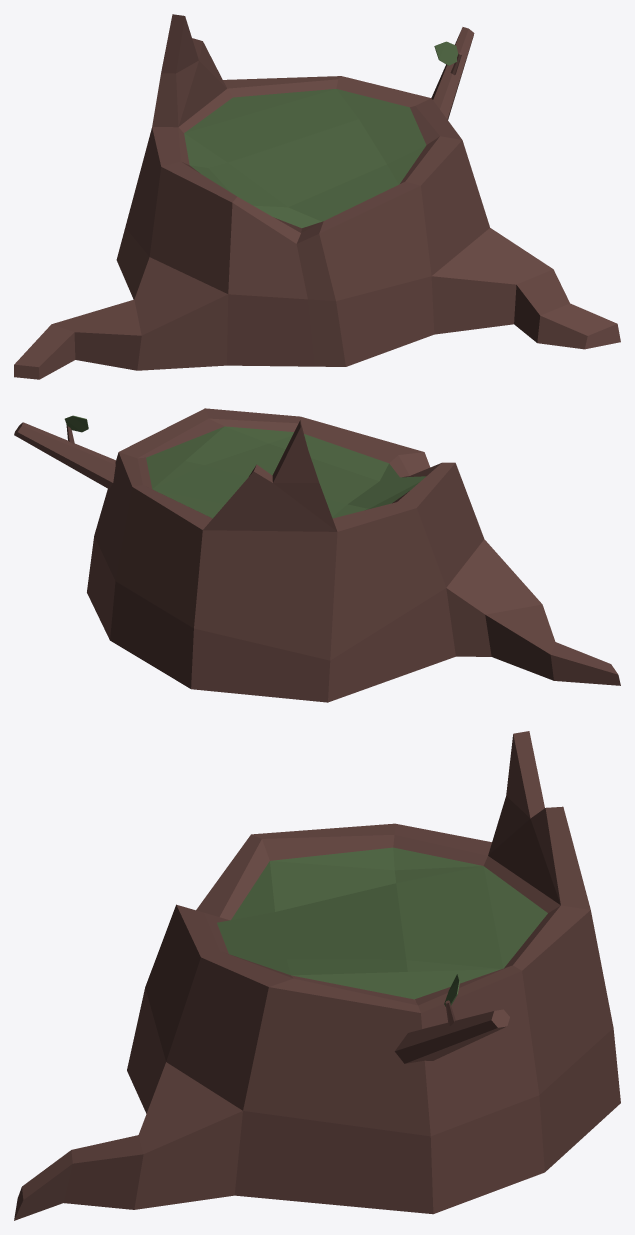
Rendered from TreeStump_Moss.gltf.
The picture shows the model from 3 angles, top to bottom: view 1: azimuth 30°, elevation 25°; view 2: azimuth 150°, elevation 25°; view 3: azimuth 270°, elevation 25°; orthographic projection. The views are drawn at different scales.
Parts seen in each view (by area): view 1: TreeStump_Moss; view 2: TreeStump_Moss; view 3: TreeStump_Moss.
Boxes of the visible parts, box(x1,y1,x2,y2) form: TreeStump_Moss: box(14, 14, 620, 379); TreeStump_Moss: box(14, 408, 620, 702); TreeStump_Moss: box(14, 731, 620, 1220).
Bounding box in the file's own units: 1.36 × 0.6216 × 1.03.
